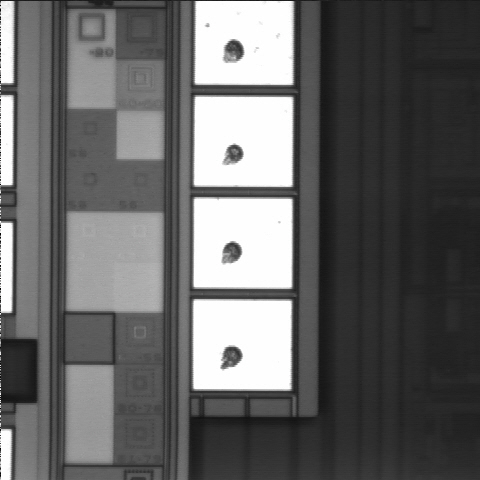pad: (193, 299, 292, 390), (194, 198, 292, 289), (194, 97, 293, 187)
